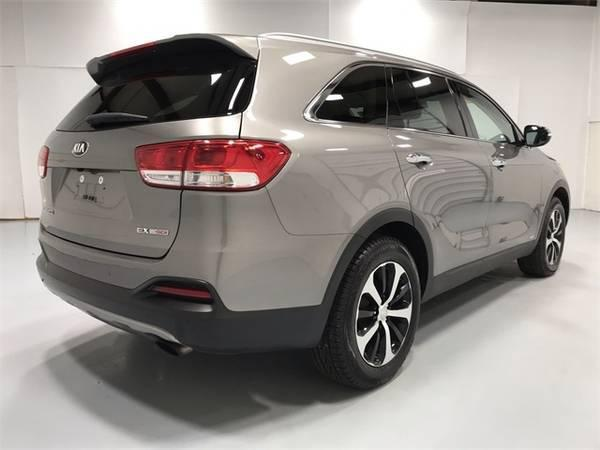Front_Right_Door: (478, 140, 541, 264)
Front_Right_Window: (451, 76, 535, 143)
Rear_Bumper: (38, 184, 366, 350)
Rear_Fender: (238, 61, 407, 236)
Rear_Right_Door: (384, 126, 491, 297)
Rear_Right_Window: (386, 64, 469, 133)
Rear_Windshield: (56, 36, 257, 132)
Right_Taillight: (132, 138, 289, 191)
Roof: (224, 33, 471, 113)
Tailgate: (40, 111, 246, 250)
Wheel: (336, 238, 429, 385), (519, 197, 570, 276)
